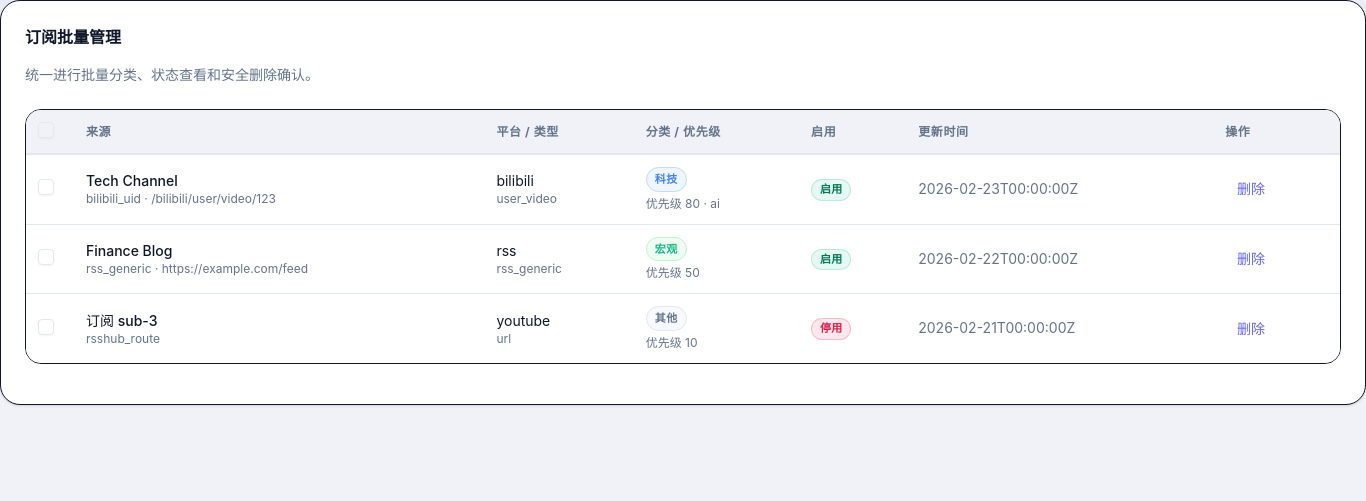
Test: SubscriptionBatchPanel › toggles single row selection on and off
Click the checkbox named "选择 Tech Channel": x=46, y=187 [38, 179, 54, 195]
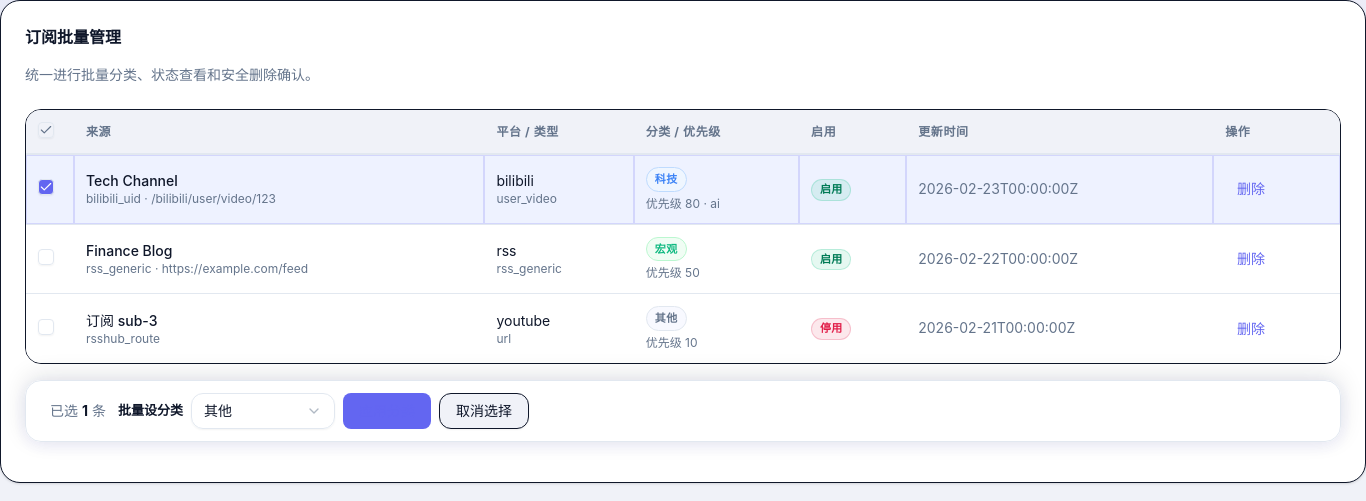
Expected: the text "已选 1 条" is shown, [50, 401, 106, 421]
Expected: the text "1" is shown, [82, 402, 88, 419]
Click the checkbox named "选择 Tech Channel": x=46, y=187 [38, 179, 54, 195]
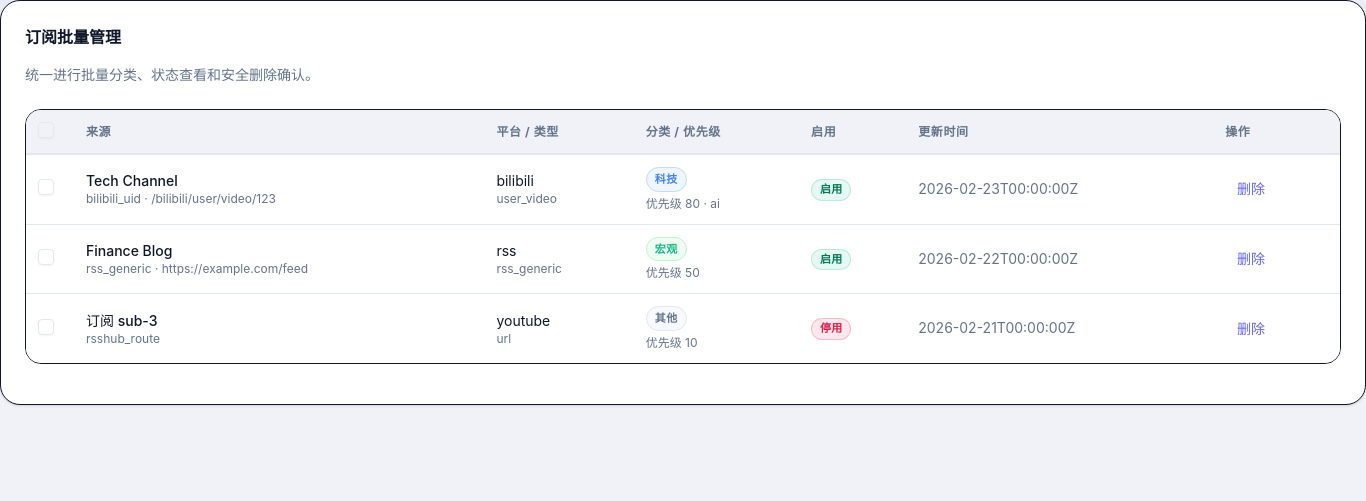
Expected: the text "已选" is gone
